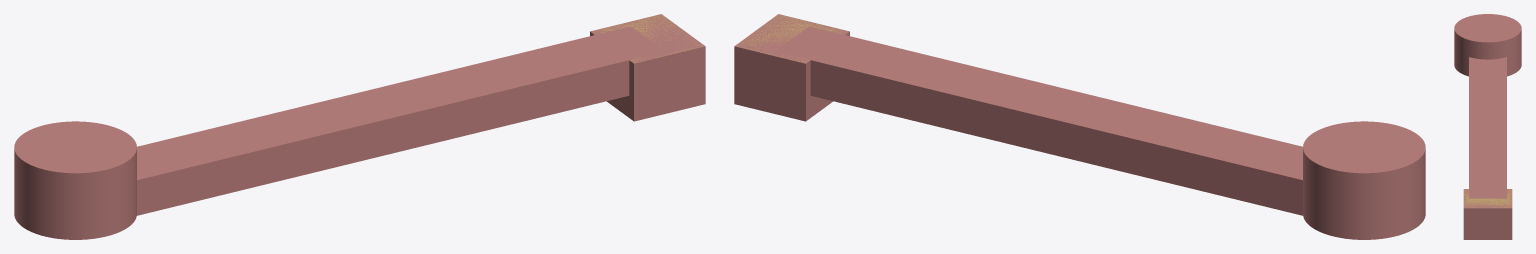
Rendered from step_43.glb.
3 renders of one model, left to right at view 1: azimuth 30°, elevation 25°; view 2: azimuth 150°, elevation 25°; view 3: azimuth 270°, elevation 25°, orthographic. The views are drawn at different scales.
Visible parts, largest first — view 1: part__6" ball valve lever, added__6" ball valve lever; view 2: part__6" ball valve lever, added__6" ball valve lever; view 3: part__6" ball valve lever, added__6" ball valve lever.
Boxes of the visible parts, x1=… form: part__6" ball valve lever: x1=14, y1=14, x2=705, y2=239; added__6" ball valve lever: x1=591, y1=14, x2=704, y2=63; part__6" ball valve lever: x1=734, y1=14, x2=1425, y2=239; added__6" ball valve lever: x1=735, y1=14, x2=849, y2=63; part__6" ball valve lever: x1=1454, y1=14, x2=1521, y2=239; added__6" ball valve lever: x1=1464, y1=189, x2=1512, y2=208.
Bounding box in the file's own units: 311 × 40 × 49.99.
